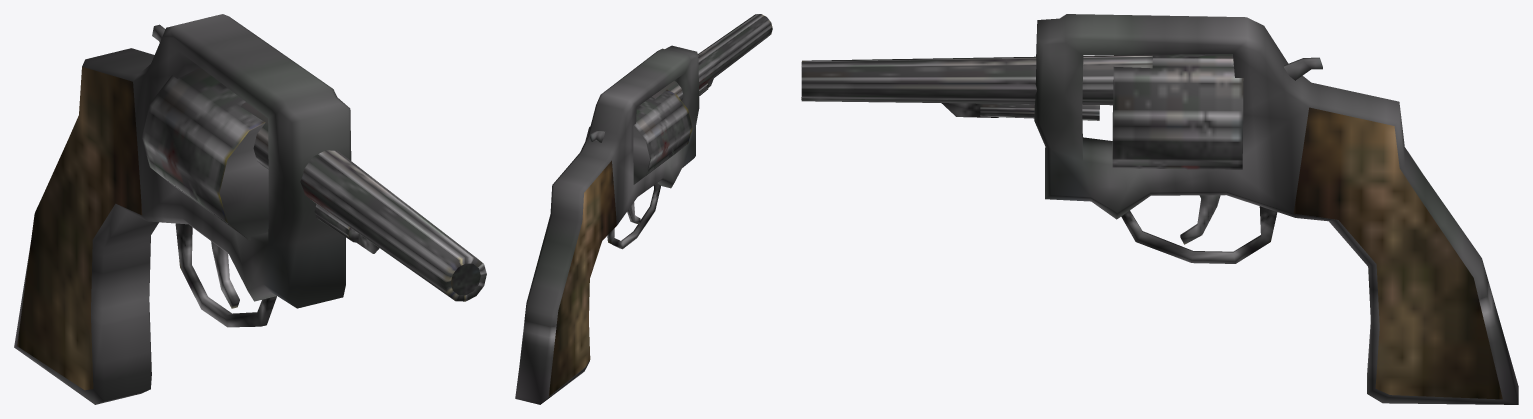
Rendered from revolver.dae.
3 renders of one model, left to right at view 1: azimuth 30°, elevation 25°; view 2: azimuth 150°, elevation 25°; view 3: azimuth 270°, elevation 25°, orthographic. The views are drawn at different scales.
Visible parts, largest first — view 1: Revolver; view 2: Revolver; view 3: Revolver.
Boxes of the visible parts, left/top/right/bottom form: Revolver: left=14, top=14, right=486, bottom=404; Revolver: left=515, top=14, right=772, bottom=404; Revolver: left=801, top=14, right=1518, bottom=404.
Bounding box in the file's own units: 0.1315 × 0.8124 × 0.4653.
